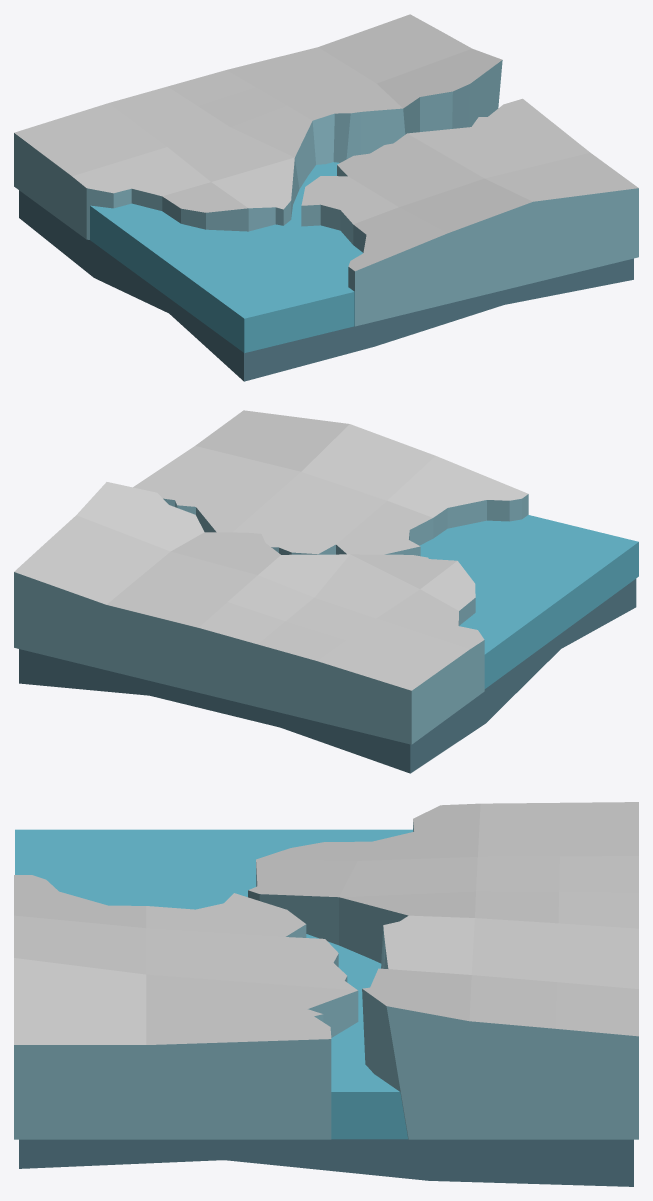
Rendered from world-ice.fbx.
The picture shows the model from 3 angles, top to bottom: view 1: azimuth 30°, elevation 25°; view 2: azimuth 150°, elevation 25°; view 3: azimuth 270°, elevation 25°; orthographic projection. The views are drawn at different scales.
Parts seen in each view (by area): view 1: world-ice; view 2: world-ice; view 3: world-ice.
Part boxes in pixels (x1,y1,x2,y2): world-ice: [14, 14, 638, 381]; world-ice: [14, 410, 638, 773]; world-ice: [14, 802, 638, 1186].
Bounding box in the file's own units: 20 × 6.46 × 20.
